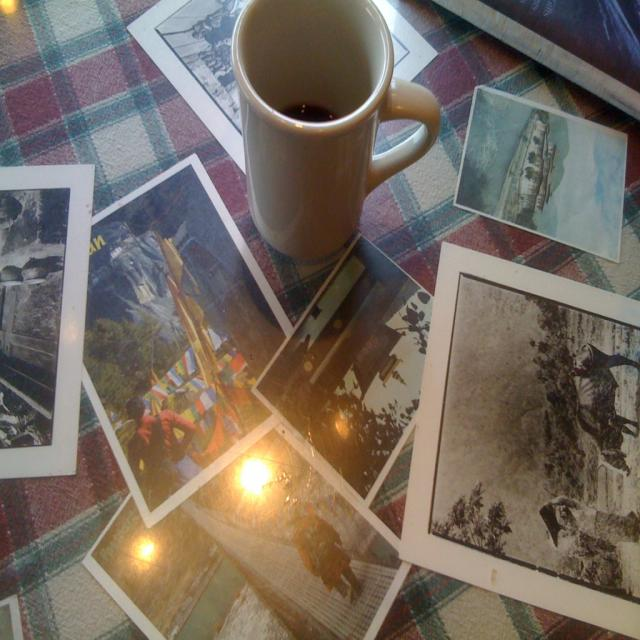Coffee: (228, 13, 436, 252)
Tea: (280, 104, 338, 126)
